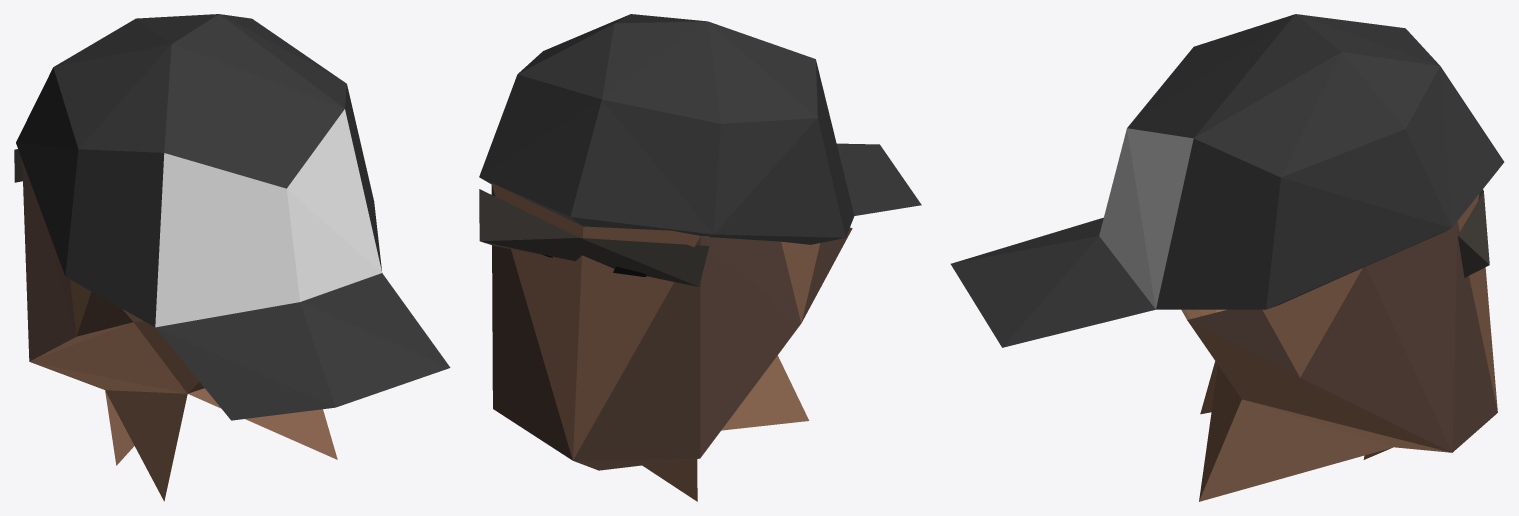
The model's file is Head.obj.
3 views of the same model, side by side, from view 1: azimuth 30°, elevation 25°; view 2: azimuth 150°, elevation 25°; view 3: azimuth 270°, elevation 25° (orthographic). The views are drawn at different scales.
Bounding box in the file's own units: 0.2742 × 0.3735 × 0.4099.
Materials: 1 (1 with a texture image).
